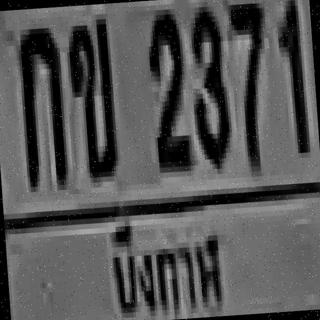A01: (14, 22, 66, 187)
A02: (64, 14, 116, 174)
N01: (272, 0, 305, 151)
N02: (143, 6, 188, 165)
N03: (185, 1, 230, 165)
N07: (226, 0, 271, 162)
P05: (100, 206, 232, 320)
